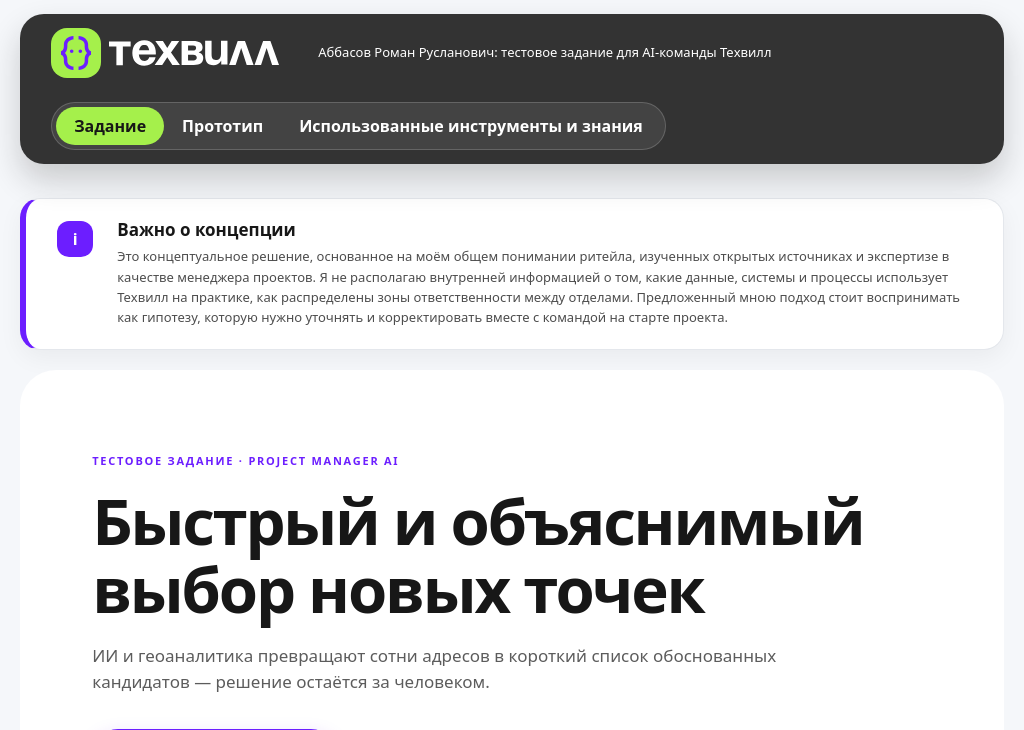
Test: switches between assignment and prototype without navigation
The image size is (1024, 730).
Expected: the heading "Быстрый и объяснимый выбор новых точек" is shown, [92,487,932,624]
Click the tab "Прототип": [223, 126] box [164,107,281,145]
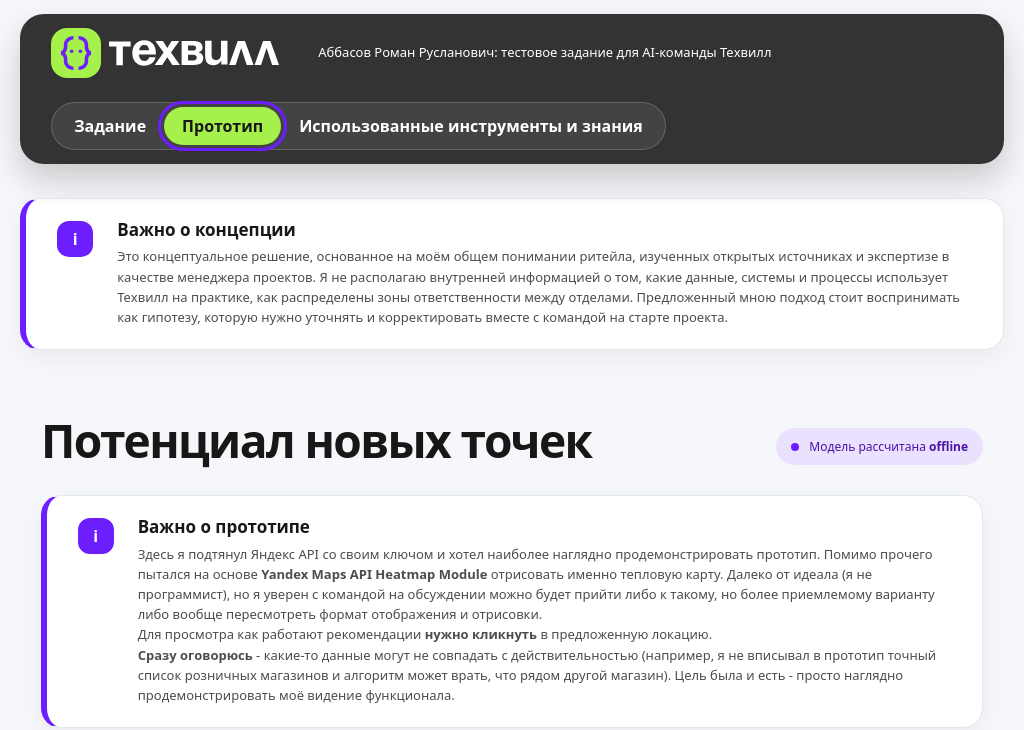
Now the heading "Потенциал новых точек" is shown, box [41,416,592,466]
